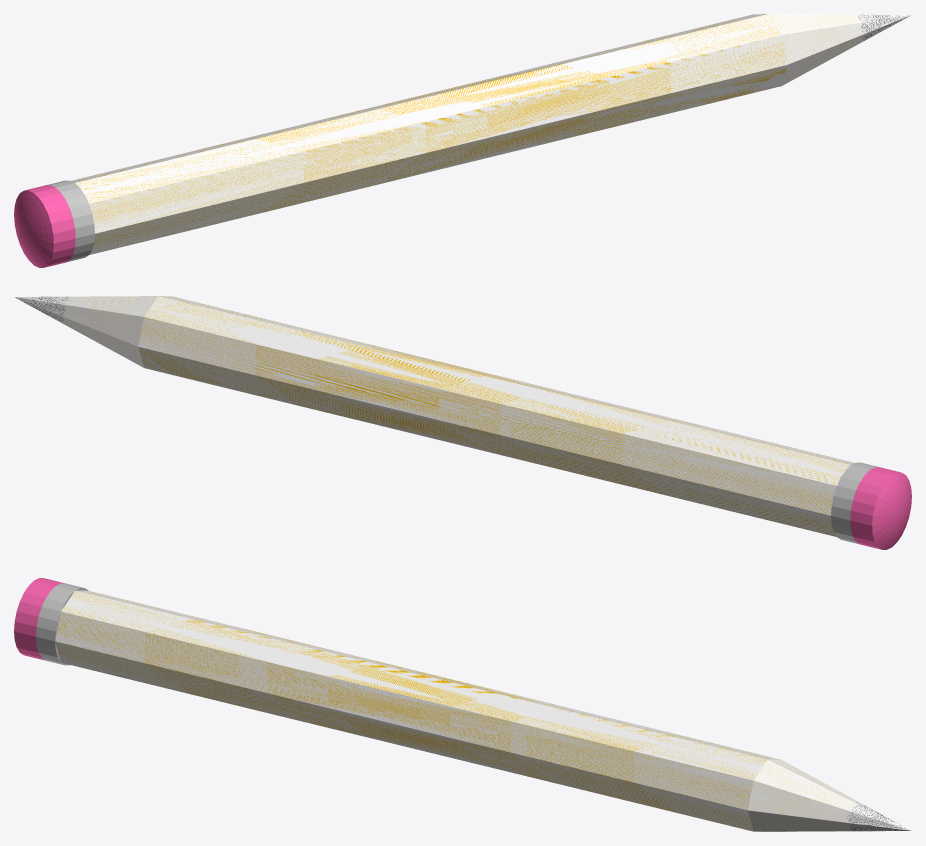
3 views of the same model, one above another, from view 1: azimuth 30°, elevation 25°; view 2: azimuth 150°, elevation 25°; view 3: azimuth 330°, elevation 25° (orthographic).
Visible parts, largest first — view 1: pencil; view 2: pencil; view 3: pencil.
Boxes of the visible parts, left/top/right/bottom form: pencil: left=14, top=14, right=911, bottom=267; pencil: left=14, top=296, right=911, bottom=549; pencil: left=14, top=578, right=911, bottom=831.
Bounding box in the file's own units: 636 × 49.61 × 49.61.
